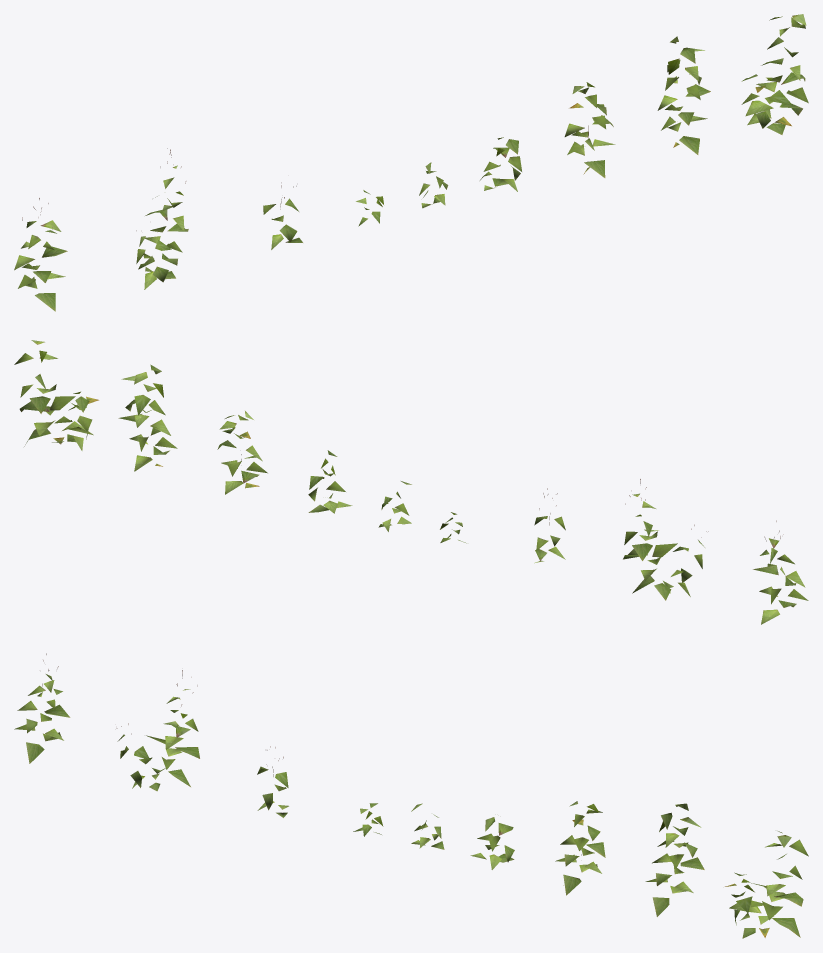
File: shrub-01.glb
3 renders of one model, top to bottom at view 1: azimuth 30°, elevation 25°; view 2: azimuth 150°, elevation 25°; view 3: azimuth 330°, elevation 25°, orthographic. The views are drawn at different scales.
Visible parts, largest first — view 1: shrub_01_a; view 2: shrub_01_a; view 3: shrub_01_a.
Boxes of the visible parts, left/top/right/bottom form: shrub_01_a: left=14, top=14, right=808, bottom=311; shrub_01_a: left=14, top=340, right=808, bottom=624; shrub_01_a: left=14, top=653, right=808, bottom=938.
Size of the model in its own units: 2.59 by 0.3801 by 0.2055.
1 material, 1 textured.
